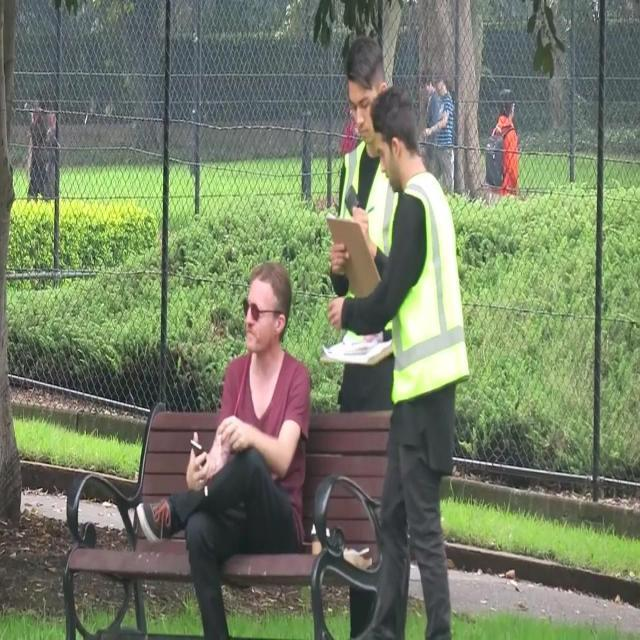reflective_jacket: (380, 167, 472, 413), (320, 132, 404, 299)
